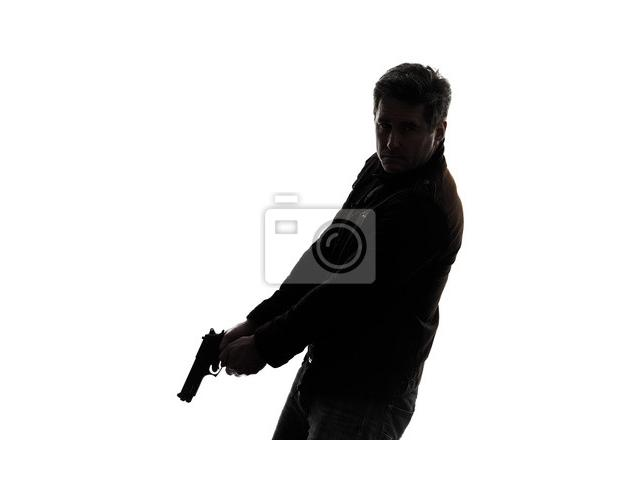pistol: (176, 326, 254, 405)
